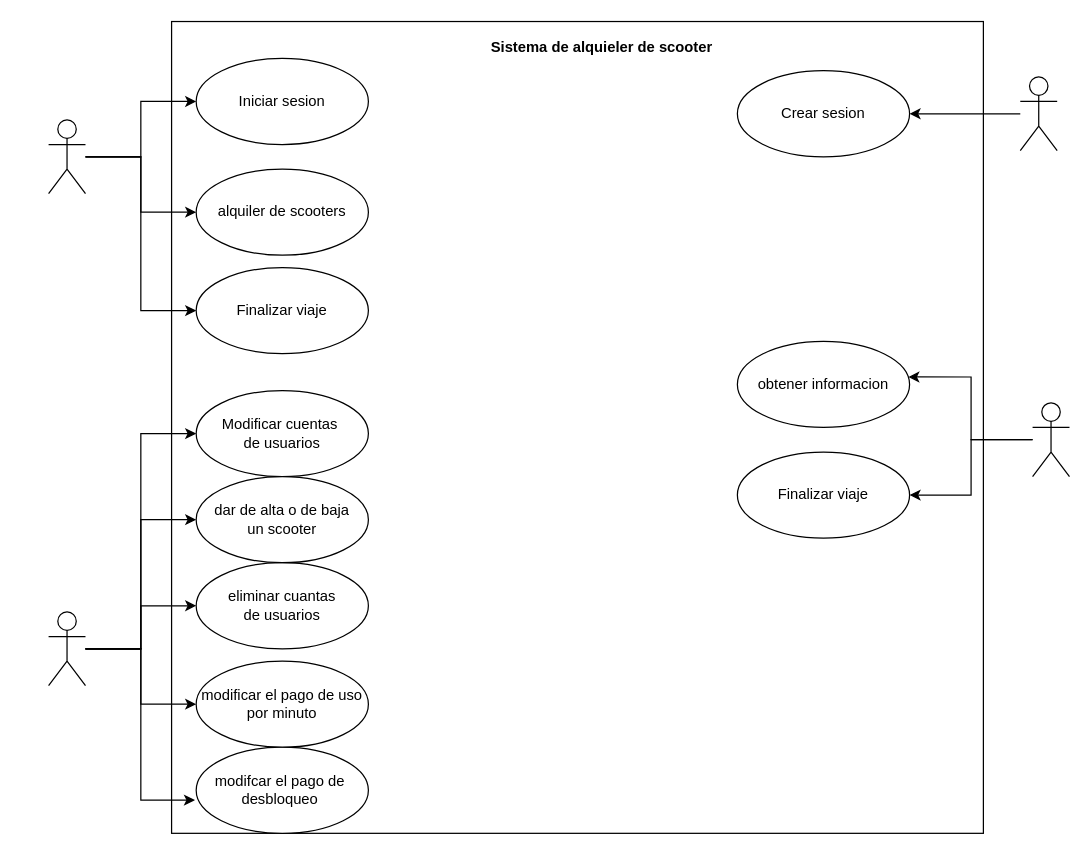
Some shapes in this 1091 by 855 pixel diagram are drawn without their labels. Each missing label, with the centre of its shape:
"Administrador" belongs at (x=66, y=648).
"Conductor" belongs at (x=66, y=156).
"Invitado" belongs at (x=1038, y=113).
"timer" belongs at (x=1050, y=439).
